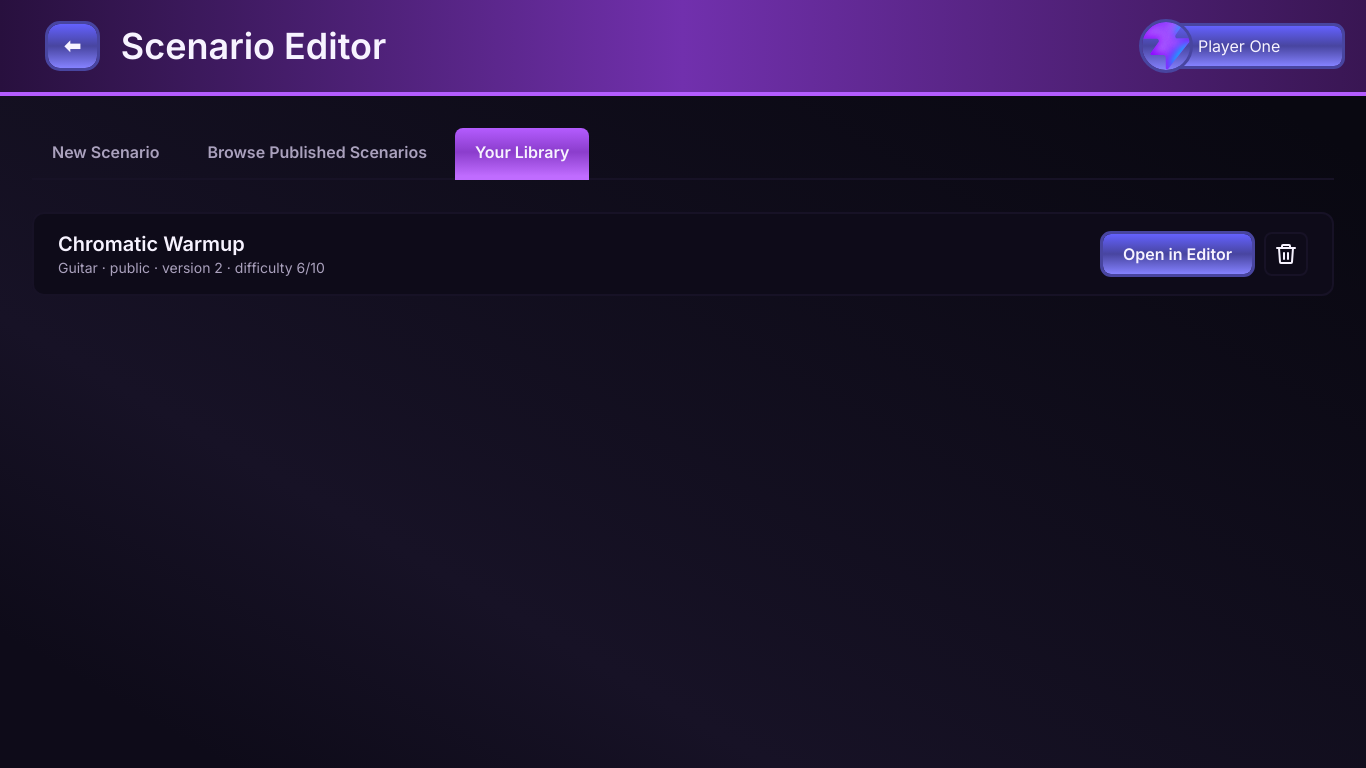
Test case: Your Library › reports a failed delete and leaves the scenario listed
Click the button named "Delete Chromatic Warmup". click: (1286, 254)
box: [1264,232,1308,276]
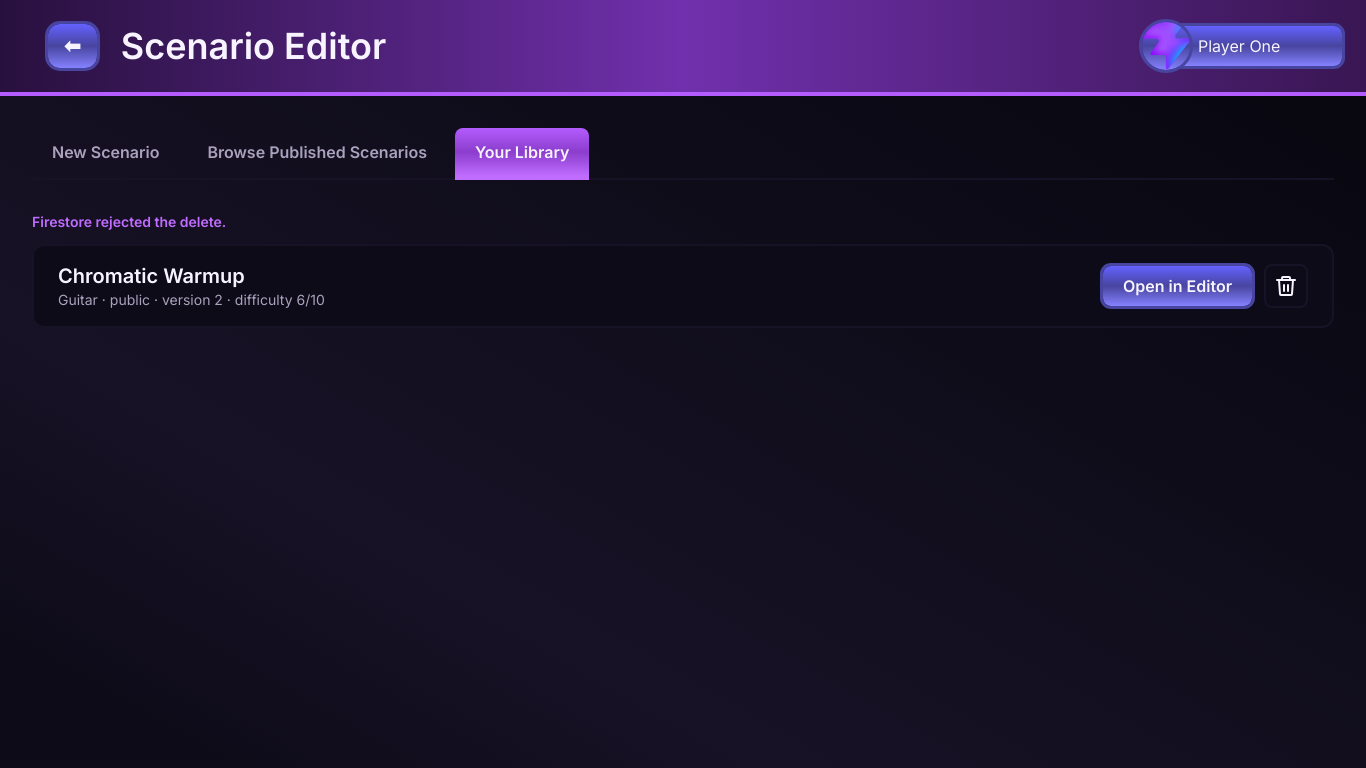
Expected: the heading "Chromatic Warmup" is shown, [58,264,245,288]
Expected: the message reads "Firestore rejected the delete.", [32,213,226,230]
